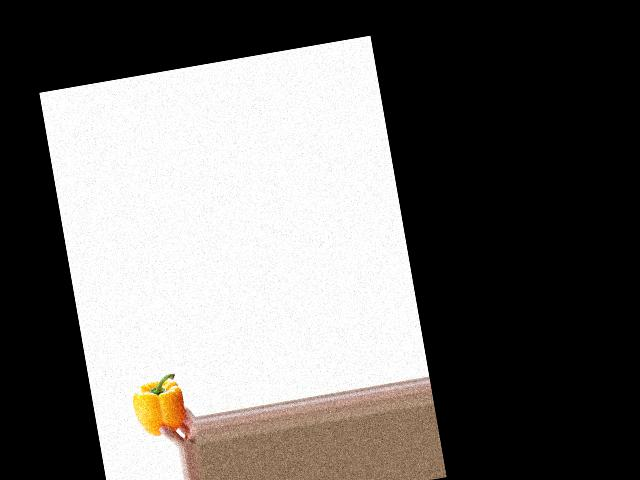bell_pepper: (127, 369, 188, 440)
